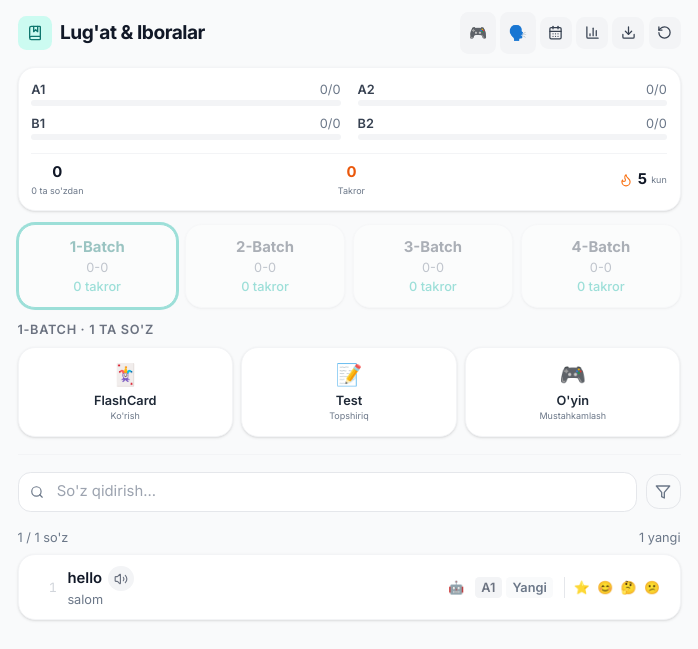
Test: Vocabulary — page integration tests › renders filter bar and toggles filters
Type in search bar filters words
In the field with placeholder "So'z qidirish...": point(327, 492) [18,472,637,512], type "hello"
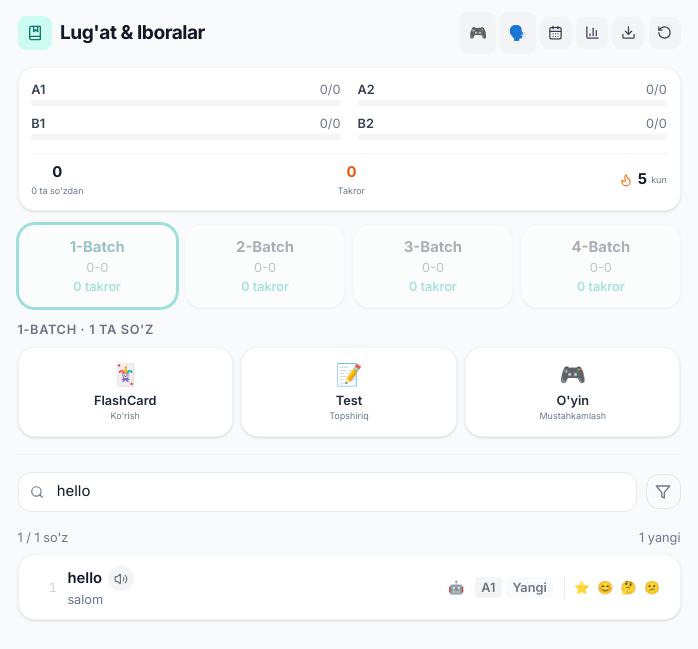
Expected: the text "hello" is shown, [67,568,102,589]
Type non-matching text
Replace the text in the field with placeholder "So'z qidirish..." with "zzzzz": point(327, 492) [18,472,637,512]
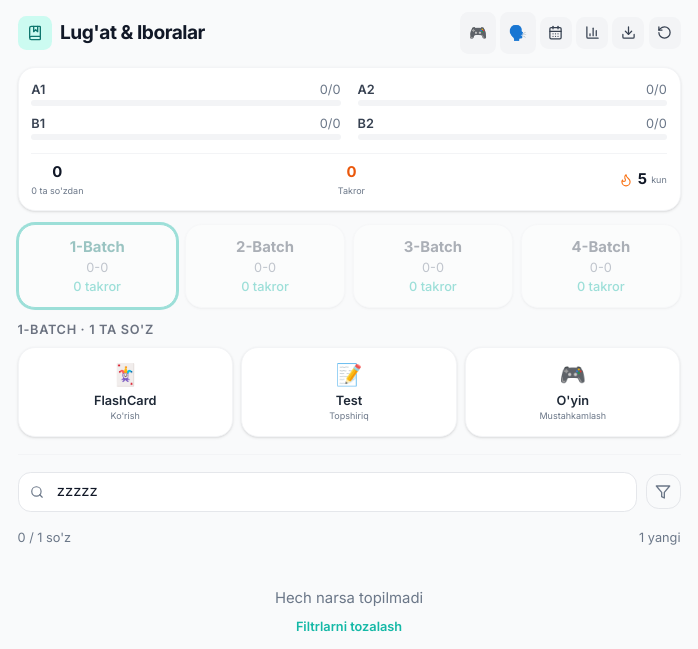
Expected: the text "Hech narsa topilmadi" is shown, [275,589,423,607]
Clear search
Clear the field with placeholder "So'z qidirish...": point(327, 492) [18,472,637,512]
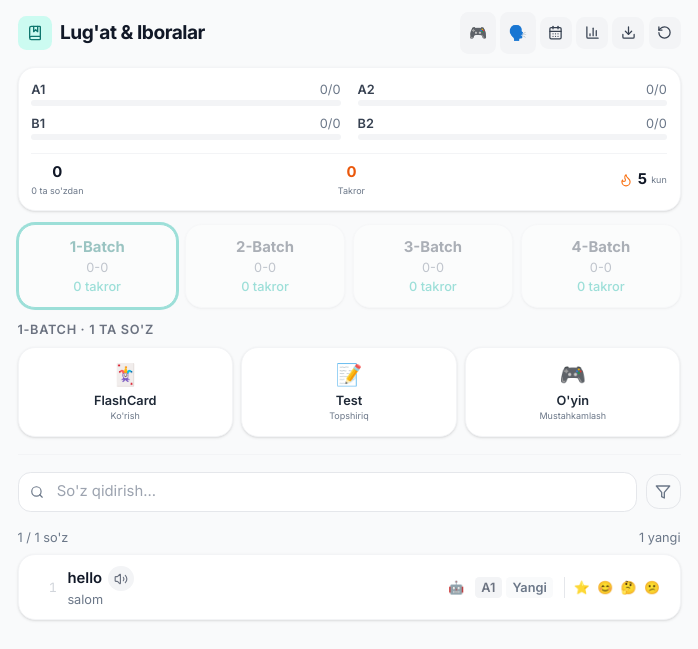
Expected: the text "Hech narsa topilmadi" is gone
